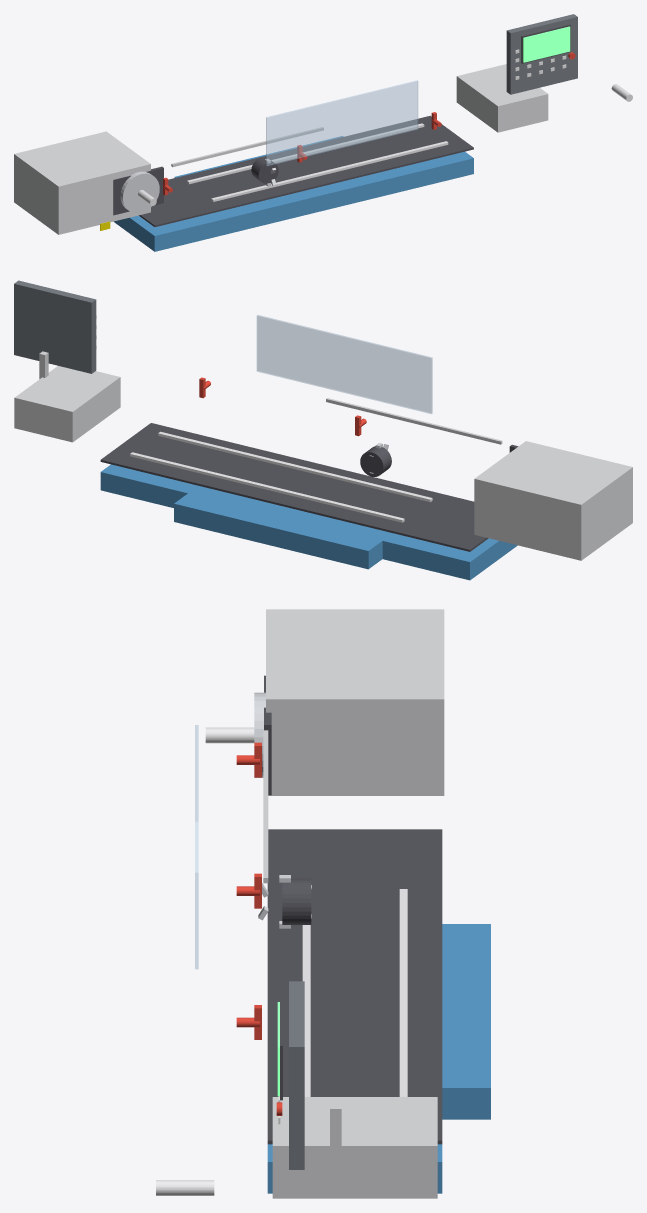
File: mesin_cnc.glb
The picture shows the model from 3 angles, top to bottom: view 1: azimuth 30°, elevation 25°; view 2: azimuth 150°, elevation 25°; view 3: azimuth 270°, elevation 25°; orthographic projection. The views are drawn at different scales.
Visible parts, largest first — view 1: BedTop.001, Headstock.001, MainBed.001, Guard, Tailstock.001, ControlPanel.001, CNCScreen, Chuck.001, Rail_-0.25, Rail_0.25, HeadstockCavity, GuardFrame (+1 smaller); view 2: BedTop.001, Headstock.001, Guard, MainBed.001, CoolantTank, ControlPanel.001, Tailstock.001, Rail_0.25, Rail_-0.25, GuardFrame, Turret; view 3: BedTop.001, Headstock.001, Tailstock.001, CoolantTank, ControlPanel.001, Rail_0.25, Turret, Rail_-0.25, Guard, Quill, GuardFrame, Spindle (+1 smaller).
Boxes of the visible parts, x1,y1,x2,y2 form: BedTop.001: (139,115,473,226); Headstock.001: (14,131,150,234); MainBed.001: (114,151,473,251); Guard: (266,80,418,165); Tailstock.001: (456,64,548,132); ControlPanel.001: (506,14,577,94); CNCScreen: (523,26,570,62); Chuck.001: (120,171,159,213); Rail_-0.25: (211,141,448,201); Rail_0.25: (187,123,424,184); HeadstockCavity: (113,166,163,215); GuardFrame: (171,127,323,167); BedTop.001: (100,423,488,551); Headstock.001: (474,441,632,560); Guard: (256,315,432,413); MainBed.001: (100,464,517,580); CoolantTank: (174,491,382,569); ControlPanel.001: (14,280,96,373); Tailstock.001: (14,366,120,442); Rail_0.25: (130,452,404,522); Rail_-0.25: (158,431,432,502); GuardFrame: (326,398,502,444); Turret: (360,446,391,476); BedTop.001: (267,829,442,1144); Headstock.001: (266,609,444,795); Tailstock.001: (272,1097,437,1198); CoolantTank: (442,924,490,1119); ControlPanel.001: (289,981,304,1169); Rail_0.25: (399,889,407,1096); Turret: (282,878,311,924); Rail_-0.25: (302,925,310,1096); Guard: (195,725,198,969); Quill: (156,1180,214,1195); GuardFrame: (263,730,268,883); Spindle: (205,727,254,743).
Bounding box in the file's own units: 6.51 × 1.44 × 1.73.
